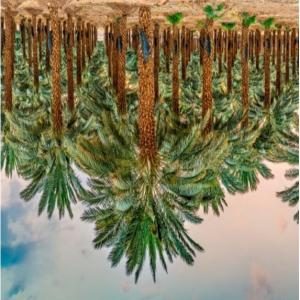palm tree: (0, 2, 299, 285)
